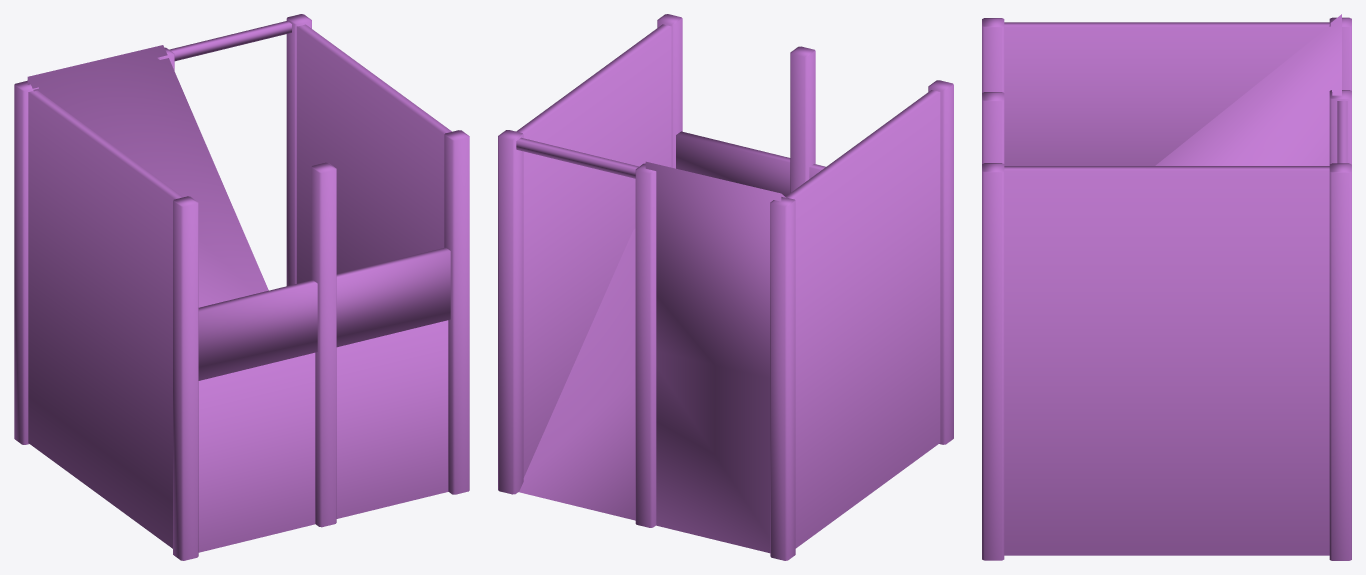
File: BrickHouse_IntStairs_A_COL.fbx
3 views of the same model, side by side, from view 1: azimuth 30°, elevation 25°; view 2: azimuth 150°, elevation 25°; view 3: azimuth 270°, elevation 25° (orthographic). The views are drawn at different scales.
Parts seen in each view (by area): view 1: BrickHouse_IntStairs_A_COL; view 2: BrickHouse_IntStairs_A_COL; view 3: BrickHouse_IntStairs_A_COL.
Part boxes in pixels (<box>): BrickHouse_IntStairs_A_COL: <box>14,14,469,560</box>; BrickHouse_IntStairs_A_COL: <box>498,14,953,560</box>; BrickHouse_IntStairs_A_COL: <box>982,14,1351,560</box>.
Bounding box in the file's own units: 4.22 × 5.05 × 4.25.
